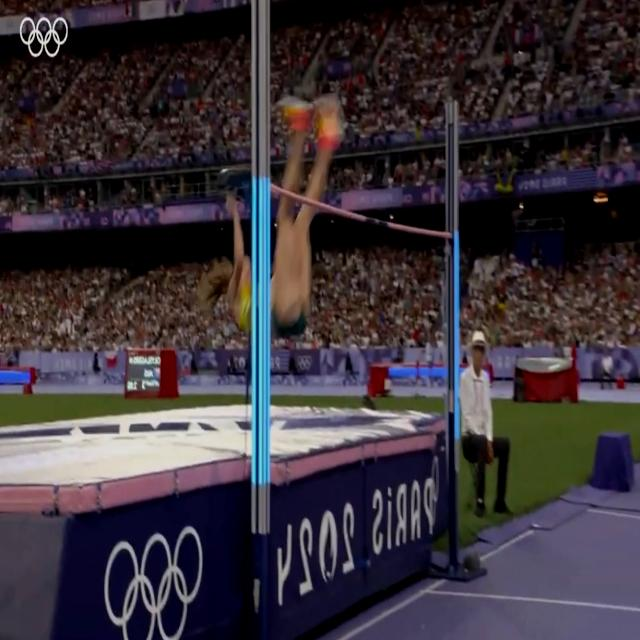land: (224, 103, 335, 340)
